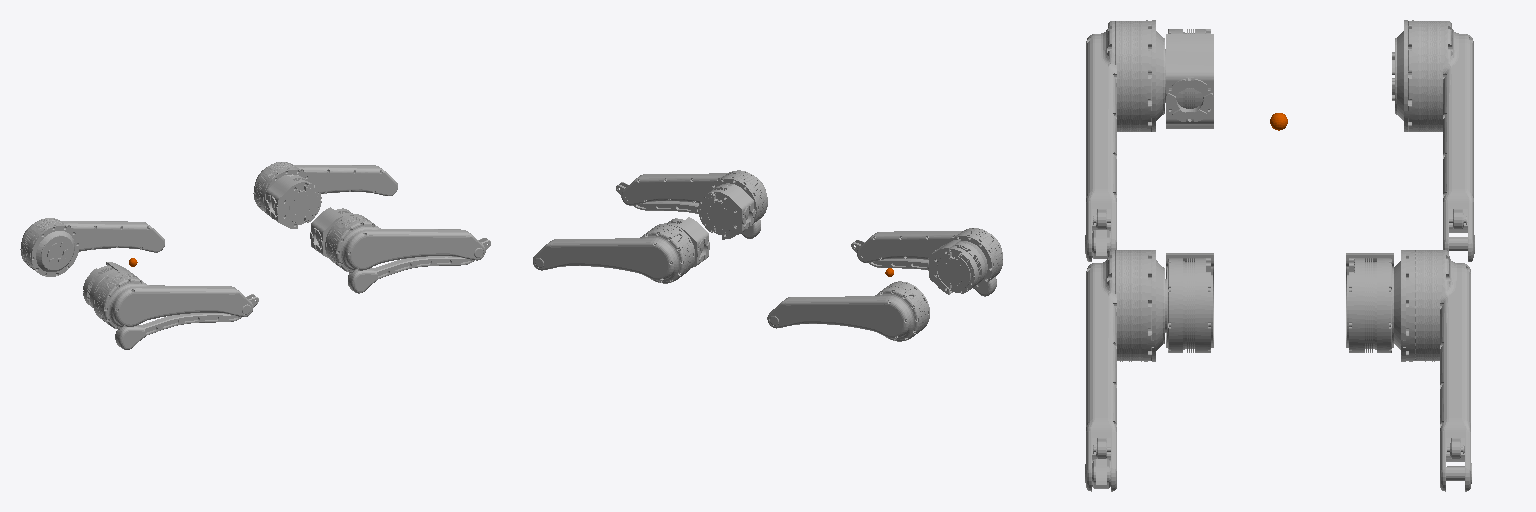
URDF robot description (urdf_assembly_v3):
<?xml version='1.0' encoding='utf-8'?>
<robot name="urdf_assembly_v3">
  <material name="silver">
    <color rgba="0.700 0.700 0.700 1.000" />
  </material>
  <!-- <link name="base"/> -->
  <link name="trunk">
    <inertial>
      <origin xyz="0.180036 -0.000024 -0.007962"/>
      <mass value="13.252419"/>
      <inertia ixx="0.11610000" ixy="-0.00006689" ixz="-0.00004903"
              iyy="0.26320000" iyz="0.00001886" izz="0.33710000"/>
    </inertial>
    <visual>
      <origin rpy="0 0 0" xyz="0 0 0" />
      <geometry>
        <mesh filename="meshes/trunk.stl" scale="0.001 0.001 0.001" />
      </geometry>
      <material name="silver" />
    </visual>
    <!-- <collision>
      <origin rpy="0 0 0" xyz="0 0 0" />
      <geometry>
        <mesh filename="meshes/trunk.stl" scale="0.001 0.001 0.001" />
      </geometry>
    </collision> -->
  </link>
  <link name="FL_hip">
    <inertial>
      <origin xyz="-0.056864 0.001156 0.001126"/>
      <mass value="1.008402"/>
      <inertia ixx="0.00123900" ixy="0.00001874" ixz="-0.00000002"
              iyy="0.00203800" iyz="0.00000005" izz="0.00147300"/>
    </inertial>
    <visual>
      <origin rpy="0 0 0" xyz="0.059 0.098894 0.00113" />
      <geometry>
        <mesh filename="meshes/FL_hip.stl" scale="0.001 0.001 0.001" />
      </geometry>
      <material name="silver" />
    </visual>
    <!-- <collision>
      <origin rpy="0 0 0" xyz="0.059 0.098894 0.00113" />
      <geometry>
        <mesh filename="meshes/FL_hip.stl" scale="0.001 0.001 0.001" />
      </geometry>
    </collision> -->
  </link>
  <link name="RL_hip">
    <inertial>
      <origin xyz="0.056564 0.001156 0.001134"/>
      <mass value="1.008402"/>
      <inertia ixx="0.00123900" ixy="-0.00001874" ixz="-0.00000002"
              iyy="0.00203800" iyz="-0.00000005" izz="0.00147300"/>
    </inertial>
    <visual>
      <origin rpy="0 0 0" xyz="-0.419 0.098894 0.00113" />
      <geometry>
        <mesh filename="meshes/RL_hip.stl" scale="0.001 0.001 0.001" />
      </geometry>
      <material name="silver" />
    </visual>
    <!-- <collision>
      <origin rpy="0 0 0" xyz="-0.419 0.098894 0.00113" />
      <geometry>
        <mesh filename="meshes/RL_hip.stl" scale="0.001 0.001 0.001" />
      </geometry>
    </collision> -->
  </link>
  <link name="RR_hip">
    <inertial>
      <origin xyz="0.056564 -0.003368 0.001133"/>
      <mass value="1.008392"/>
      <inertia ixx="0.00123900" ixy="0.00001874" ixz="-0.00000002"
              iyy="0.00203800" iyz="0.00000005" izz="0.00147300"/>
    </inertial>
    <visual>
      <origin rpy="0 0 0" xyz="-0.419 -0.101106 0.00113" />
      <geometry>
        <mesh filename="meshes/RR_hip.stl" scale="0.001 0.001 0.001" />
      </geometry>
      <material name="silver" />
    </visual>
    <!-- <collision>
      <origin rpy="0 0 0" xyz="-0.419 -0.101106 0.00113" />
      <geometry>
        <mesh filename="meshes/RR_hip.stl" scale="0.001 0.001 0.001" />
      </geometry>
    </collision> -->
  </link>
  <link name="FR_hip">
    <inertial>
      <origin xyz="-0.056864 -0.003368 0.001127"/>
      <mass value="1.008392"/>
      <inertia ixx="0.00123900" ixy="-0.00001874" ixz="-0.00000002"
              iyy="0.00203800" iyz="-0.00000005" izz="0.00147300"/>
    </inertial>
    <visual>
      <origin rpy="0 0 0" xyz="0.059 -0.101106 0.00113" />
      <geometry>
        <mesh filename="meshes/FR_hip.stl" scale="0.001 0.001 0.001" />
      </geometry>
      <material name="silver" />
    </visual>
    <!-- <collision>
      <origin rpy="0 0 0" xyz="0.059 -0.101106 0.00113" />
      <geometry>
        <mesh filename="meshes/FR_hip.stl" scale="0.001 0.001 0.001" />
      </geometry>
    </collision> -->
  </link>
  <link name="FR_thigh">
    <inertial>
      <origin xyz="0.041847 0.044995 -0.007447"/>
      <mass value="2.226976"/>
      <inertia ixx="0.00428900" ixy="-0.00242400" ixz="0.00381700"
              iyy="0.02280000" iyz="0.00050890" izz="0.02121000"/>
    </inertial>
    <visual>
      <origin rpy="0 0 0" xyz="0.121 -0.128506 0.00113" />
      <geometry>
        <mesh filename="meshes/FR_thigh.stl" scale="0.001 0.001 0.001" />
      </geometry>
      <material name="silver" />
    </visual>
    <!-- <collision>
      <origin rpy="0 0 0" xyz="0.121 -0.128506 0.00113" />
      <geometry>
        <mesh filename="meshes/FR_thigh.stl" scale="0.001 0.001 0.001" />
      </geometry>
    </collision> -->
  </link>
  <link name="RR_thigh">
    <inertial>
      <origin xyz="0.045547 0.047995 -0.007447"/>
      <mass value="2.226976"/>
      <inertia ixx="0.00428900" ixy="-0.00242400" ixz="0.00381700"
              iyy="0.02280000" iyz="0.00050890" izz="0.02121000"/>
    </inertial>
    <visual>
      <origin rpy="0 0 0" xyz="-0.481 -0.125506 0.00113" />
      <geometry>
        <mesh filename="meshes/RR_thigh.stl" scale="0.001 0.001 0.001" />
      </geometry>
      <material name="silver" />
    </visual>
    <!-- <collision>
      <origin rpy="0 0 0" xyz="-0.481 -0.125506 0.00113" />
      <geometry>
        <mesh filename="meshes/RR_thigh.stl" scale="0.001 0.001 0.001" />
      </geometry>
    </collision> -->
  </link>
  <link name="FL_thigh">
    <inertial>
      <origin xyz="0.041849 -0.047206 -0.007427"/>
      <mass value="2.226916"/>
      <inertia ixx="0.00424000" ixy="0.00242400" ixz="0.00381900"
              iyy="0.02273000" iyz="-0.00050870" izz="0.02120000"/>
    </inertial>
    <visual>
      <origin rpy="0 0 0" xyz="0.121 0.126294 0.00113" />
      <geometry>
        <mesh filename="meshes/FL_thigh.stl" scale="0.001 0.001 0.001" />
      </geometry>
      <material name="silver" />
    </visual>
    <!-- <collision>
      <origin rpy="0 0 0" xyz="0.121 0.126294 0.00113" />
      <geometry>
        <mesh filename="meshes/FL_thigh.stl" scale="0.001 0.001 0.001" />
      </geometry>
    </collision> -->
  </link>
  <link name="RL_thigh">
    <inertial>
      <origin xyz="0.045549 -0.047206 -0.007427"/>
      <mass value="2.226916"/>
      <inertia ixx="0.00424000" ixy="0.00242400" ixz="0.00381900"
              iyy="0.02273000" iyz="-0.00050870" izz="0.02120000"/>
    </inertial>
    <visual>
      <origin rpy="0 0 0" xyz="-0.481 0.126294 0.00113" />
      <geometry>
        <mesh filename="meshes/RL_thigh.stl" scale="0.001 0.001 0.001" />
      </geometry>
      <material name="silver" />
    </visual>
    <!-- <collision>
      <origin rpy="0 0 0" xyz="-0.481 0.126294 0.00113" />
      <geometry>
        <mesh filename="meshes/RL_thigh.stl" scale="0.001 0.001 0.001" />
      </geometry>
    </collision> -->
  </link>
  <link name="RR_calf">
    <inertial>
      <origin xyz="-0.152659 0.011317 -0.003568"/>
      <mass value="0.403541"/>
      <inertia ixx="0.00006653" ixy="0.00000815" ixz="0.00014770"
              iyy="0.00538400" iyz="-0.00000100" izz="0.00534900"/>
    </inertial>
    <visual>
      <origin rpy="0 0 0" xyz="-0.170833 0.207494 0.070655" />
      <geometry>
        <mesh filename="meshes/RR_calf.stl" scale="0.001 0.001 0.001" />
      </geometry>
      <material name="silver" />
    </visual>
    <collision>
      <origin xyz="-0.31 0.01 -0.02" rpy="0 0 0"/>
      <geometry>
        <sphere radius="0.015"/>
      </geometry>
    </collision>
  </link>
  <link name="FR_calf">
    <inertial>
      <origin xyz="-0.156359 0.008317 -0.003568"/>
      <mass value="0.403541"/>
      <inertia ixx="0.00006653" ixy="0.00000815" ixz="0.00014770"
              iyy="0.00538400" iyz="-0.00000100" izz="0.00534900"/>
    </inertial>
    <visual>
      <origin rpy="0 0 0" xyz="-0.772833 0.207494 0.070655" />
      <geometry>
        <mesh filename="meshes/FR_calf.stl" scale="0.001 0.001 0.001" />
      </geometry>
      <material name="silver" />
    </visual>
    <collision>
      <origin xyz="-0.31 0.01 -0.02" rpy="0 0 0"/>
      <geometry>
        <sphere radius="0.015"/>
      </geometry>
    </collision>
  </link>
  <link name="RL_calf">
    <inertial>
      <origin xyz="-0.152659 0.009471 -0.003568"/>
      <mass value="0.403540"/>
      <inertia ixx="0.00006655" ixy="-0.00000815" ixz="0.00014770"
              iyy="0.00538400" iyz="0.00000100" izz="0.00534900"/>
    </inertial>
    <visual>
      <origin rpy="0 0 0" xyz="-0.772833 0.207494 0.070655" />
      <geometry>
        <mesh filename="meshes/RL_calf.stl" scale="0.001 0.001 0.001" />
      </geometry>
      <material name="silver" />
    </visual>
    <collision>
      <origin xyz="-0.31 0.01 -0.02" rpy="0 0 0"/>
      <geometry>
        <sphere radius="0.015"/>
      </geometry>
    </collision>
  </link>
  <link name="FL_calf">
    <inertial>
      <origin xyz="-0.156359 0.009471 -0.003568"/>
      <mass value="0.403540"/>
      <inertia ixx="0.00006655" ixy="-0.00000815" ixz="0.00014770"
              iyy="0.00538400" iyz="0.00000100" izz="0.00534900"/>
    </inertial>
    <visual>
      <origin rpy="0 0 0" xyz="-0.170833 0.207494 0.070655" />
      <geometry>
        <mesh filename="meshes/FL_calf.stl" scale="0.001 0.001 0.001" />
      </geometry>
      <material name="silver" />
    </visual>
    <collision>
      <origin xyz="-0.31 0.01 -0.02" rpy="0 0 0"/>
      <geometry>
        <sphere radius="0.015"/>
      </geometry>
    </collision>
  </link>

  <!-- <joint name="floating_trunk" type="floating">
    <parent link="base"/>
    <child link="trunk"/>
    <origin xyz="0 0 0.0" rpy="0 0 0"/>
  </joint> -->
  <joint name="FL_hip_joint" type="revolute">
    <origin rpy="0 0 0" xyz="-0.059 -0.098894 -0.00113" />
    <parent link="trunk" />
    <child link="FL_hip" />
    <axis xyz="-1.0 0.0 0.0" />
    <limit lower="-0.785" upper="0.785" />
  </joint>
  <joint name="RL_hip_joint" type="revolute">
    <origin rpy="0 0 0" xyz="0.419 -0.098894 -0.00113" />
    <parent link="trunk" />
    <child link="RL_hip" />
    <axis xyz="1.0 -0.0 -0.0" />
    <limit lower="-0.785" upper="0.785" />
  </joint>
  <joint name="RR_hip_joint" type="revolute">
    <origin rpy="0 0 0" xyz="0.419 0.101106 -0.00113" />
    <parent link="trunk" />
    <child link="RR_hip" />
    <axis xyz="1.0 -0.0 0.0" />
    <limit lower="-0.785" upper="0.785" />
  </joint>
  <joint name="FR_hip_joint" type="revolute">
    <origin rpy="0 0 0" xyz="-0.059 0.101106 -0.00113" />
    <parent link="trunk" />
    <child link="FR_hip" />
    <axis xyz="-1.0 0.0 -0.0" />
    <limit lower="-0.785" upper="0.785" />
  </joint>
  <joint name="FR_thigh_joint" type="revolute">
    <origin rpy="0 0 0" xyz="-0.062 0.0274 0.0" />
    <parent link="FR_hip" />
    <child link="FR_thigh" />
    <axis xyz="0.0 1.0 -0.0" />
    <limit lower="-1.5708" upper="1.5708" />
  </joint>
  <joint name="RR_thigh_joint" type="revolute">
    <origin rpy="0 0 0" xyz="0.062 0.0244 0.0" />
    <parent link="RR_hip" />
    <child link="RR_thigh" />
    <axis xyz="-0.0 1.0 0.0" />
    <limit lower="-1.5708" upper="1.5708" />
  </joint>
  <joint name="FL_thigh_joint" type="revolute">
    <origin rpy="0 0 0" xyz="-0.062 -0.0274 0.0" />
    <parent link="FL_hip" />
    <child link="FL_thigh" />
    <axis xyz="0.0 -1.0 -0.0" />
    <limit lower="-1.5708" upper="1.5708" />
  </joint>
  <joint name="RL_thigh_joint" type="revolute">
    <origin rpy="0 0 0" xyz="0.062 -0.0274 0.0" />
    <parent link="RL_hip" />
    <child link="RL_thigh" />
    <axis xyz="-0.0 -1.0 -0.0" />
    <limit lower="-1.5708" upper="1.5708" />
  </joint>
  <joint name="FL_calf_joint" type="revolute">
    <origin rpy="0 0 0" xyz="0.291833 -0.0812 -0.069525" />
    <parent link="FL_thigh" />
    <child link="FL_calf" />
    <axis xyz="-0.0 -1.0 0.0" />
    <limit lower="0.0" upper="2.30" />
  </joint>
  <joint name="RL_calf_joint" type="revolute">
    <origin rpy="0 0 0" xyz="0.291833 -0.0812 -0.069525" />
    <parent link="RL_thigh" />
    <child link="RL_calf" />
    <axis xyz="-0.0 -1.0 0.0" />
    <limit lower="0.0" upper="2.30" />
  </joint>
  <joint name="RR_calf_joint" type="revolute">
    <origin rpy="0 0 0" xyz="0.291833 0.0612 -0.069525" />
    <parent link="RR_thigh" />
    <child link="RR_calf" />
    <axis xyz="0.0 1.0 0.0" />
    <limit lower="-2.30" upper="0.0" />
  </joint>
  <joint name="FR_calf_joint" type="revolute">
    <origin rpy="0 0 0" xyz="0.291833 0.0612 -0.069525" />
    <parent link="FR_thigh" />
    <child link="FR_calf" />
    <axis xyz="0.0 1.0 -0.0" />
    <limit lower="-2.30" upper="0.0" />
  </joint>


  <link name="imu_link">
  <visual>
    <origin xyz="0 0 0"/>
    <geometry>
      <sphere radius="0.01"/>
    </geometry>
    <material name="gray"/>
  </visual>
</link>

<joint name="imu_joint" type="fixed">
  <parent link="trunk"/>
  <child link="imu_link"/>
  <origin xyz="0 0 0" rpy="0 0 0"/>
</joint>
</robot>

--- Facts derived from the render (not from the file) ---
Views: 3 orthographic renders of the robot side by side, from view 1: azimuth 30°, elevation 25°; view 2: azimuth 150°, elevation 25°; view 3: azimuth 270°, elevation 25°.
Robot: urdf_assembly_v3 — 14 links, 13 joints (12 revolute, 1 fixed); root link trunk; default pose: every joint at zero.
Visible links, largest first — view 1: RL_thigh, FL_thigh, FR_thigh, RR_thigh, RR_hip, RL_calf, FL_calf, RL_hip, FL_hip; view 2: FR_thigh, RR_thigh, FL_thigh, RL_thigh, FL_hip, RL_hip, RL_calf, RR_hip, FL_calf; view 3: FR_thigh, RR_thigh, RL_thigh, FL_thigh, FL_hip, RL_hip, RR_hip, RL_calf.
Link boxes in pixels (x1=…): RL_thigh: x1=325, y1=214, x2=485, y2=272; FL_thigh: x1=93, y1=271, x2=253, y2=329; FR_thigh: x1=20, y1=218, x2=164, y2=276; RR_thigh: x1=253, y1=162, x2=397, y2=213; RR_hip: x1=265, y1=175, x2=321, y2=228; RL_calf: x1=348, y1=238, x2=490, y2=293; FL_calf: x1=115, y1=294, x2=258, y2=349; RL_hip: x1=310, y1=207, x2=352, y2=257; FL_hip: x1=83, y1=262, x2=136, y2=307; FR_thigh: x1=767, y1=281, x2=929, y2=341; RR_thigh: x1=533, y1=223, x2=694, y2=283; FL_thigh: x1=857, y1=228, x2=1002, y2=287; RL_thigh: x1=621, y1=170, x2=767, y2=222; FL_hip: x1=928, y1=239, x2=984, y2=294; RL_hip: x1=698, y1=184, x2=755, y2=239; RL_calf: x1=616, y1=182, x2=760, y2=238; RR_hip: x1=667, y1=217, x2=709, y2=267; FL_calf: x1=851, y1=240, x2=996, y2=296; FR_thigh: x1=1392, y1=20, x2=1474, y2=261; RR_thigh: x1=1393, y1=250, x2=1471, y2=491; RL_thigh: x1=1085, y1=250, x2=1164, y2=491; FL_thigh: x1=1085, y1=20, x2=1164, y2=261; FL_hip: x1=1165, y1=29, x2=1213, y2=128; RL_hip: x1=1165, y1=253, x2=1213, y2=352; RR_hip: x1=1346, y1=253, x2=1393, y2=352; RL_calf: x1=1092, y1=459, x2=1110, y2=488.
Bounding box of the posed robot: 0.9935 × 0.4318 × 0.1644 m (x, y, z).
Meshes: 13 distinct files referenced, 9 mesh visuals loaded (9 binary STL); not drawn: 4 (reference not matched to a file when rendering).
